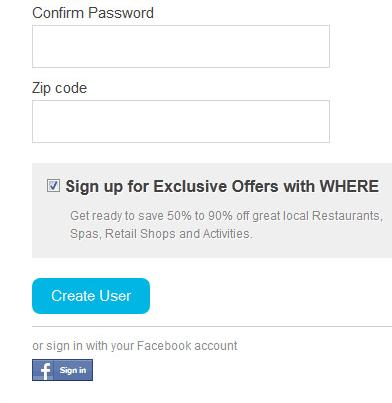button: (32, 277, 152, 315), (30, 357, 94, 383)
checkbox: (44, 177, 64, 193)
checkbox_with_label: (41, 174, 381, 196)
field: (32, 23, 331, 69), (29, 99, 330, 143)
field_with_label: (30, 5, 334, 72), (26, 82, 333, 145)
